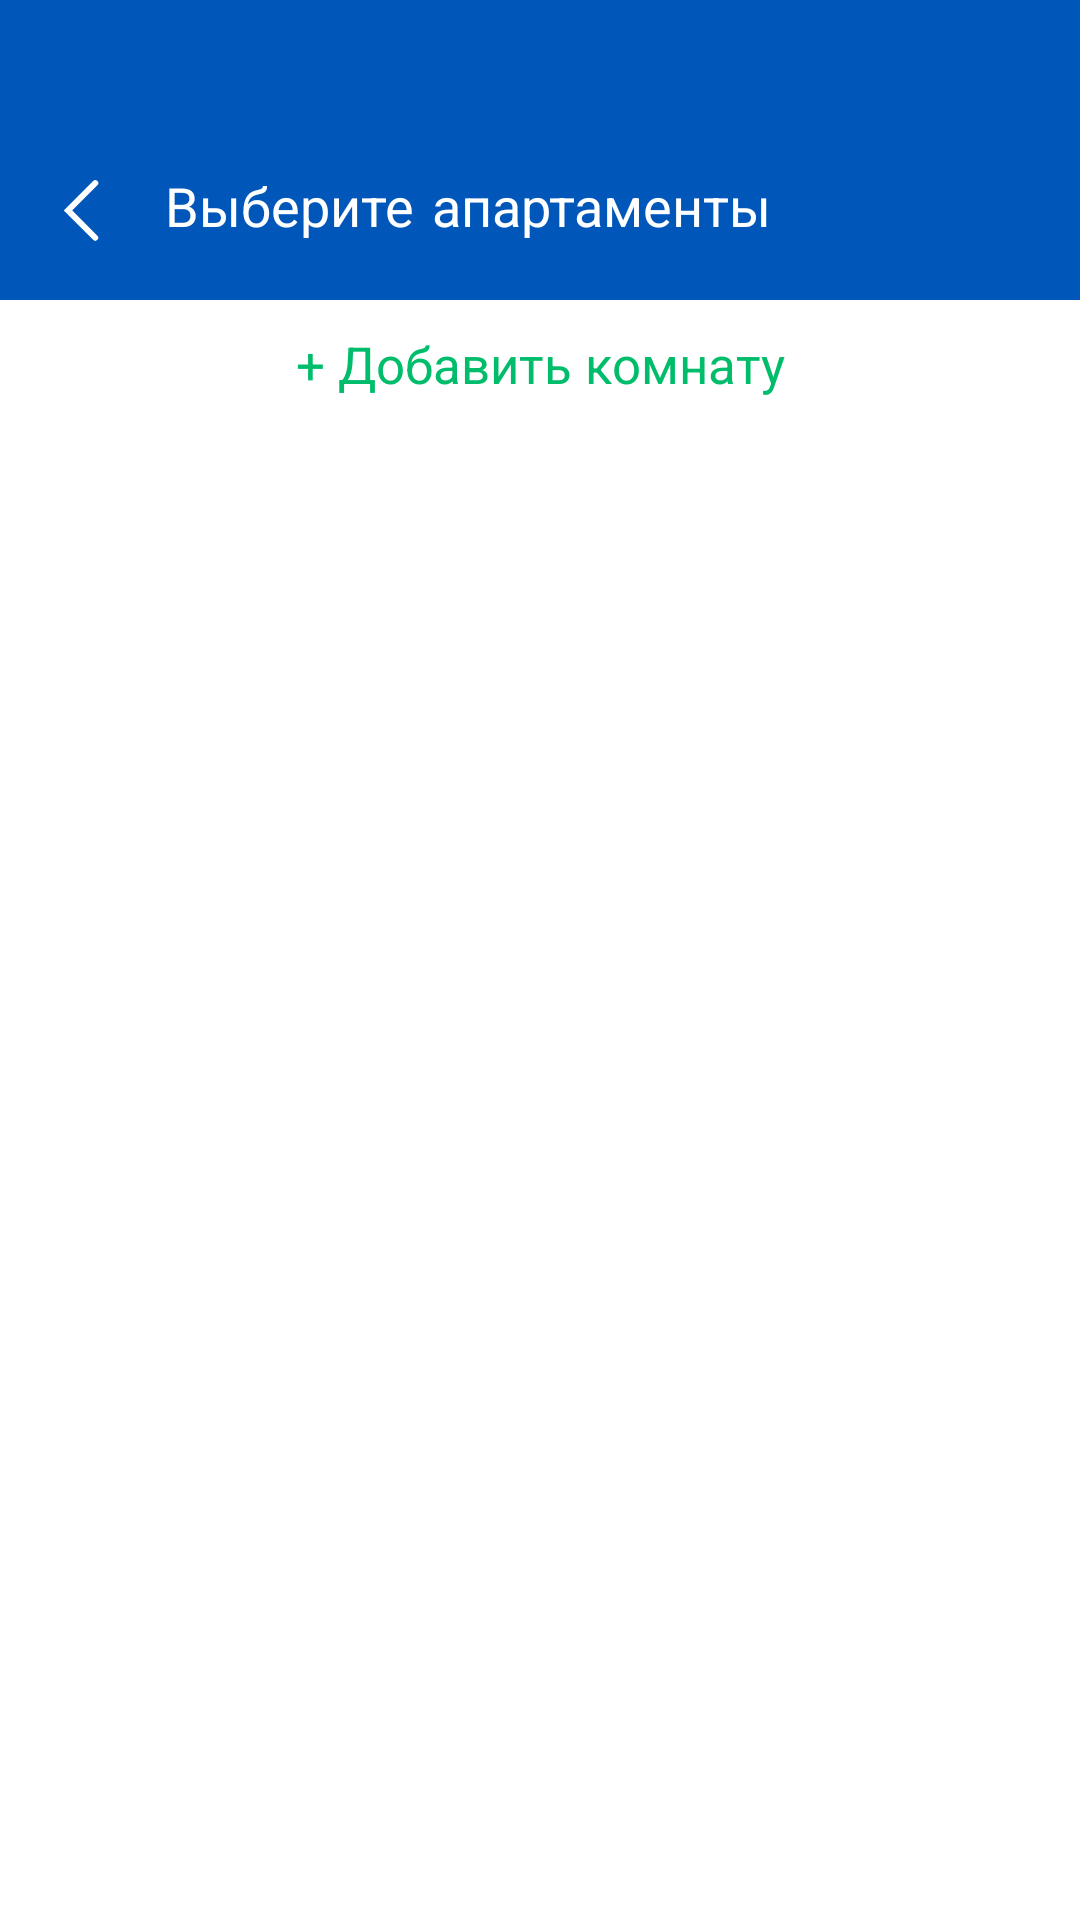

Where to tap for icons on this 1080 x 1920 app screen, as [x,y]:
sign back: [81,210]
